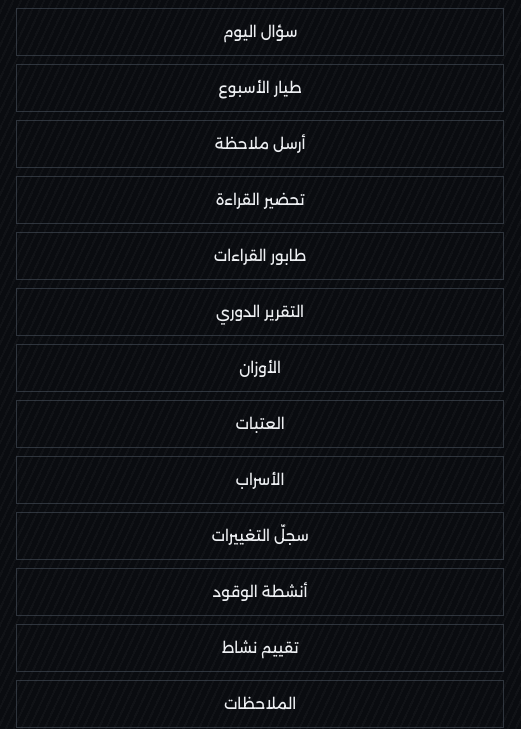
Test: نافذة المشرف — و-٧ › الأوزان: تعرض الإصدار الساري كما وصل
(page scrolled)
Click the button "الأوزان".
click(260, 368)  # box [16, 344, 504, 392]
(page scrolled)
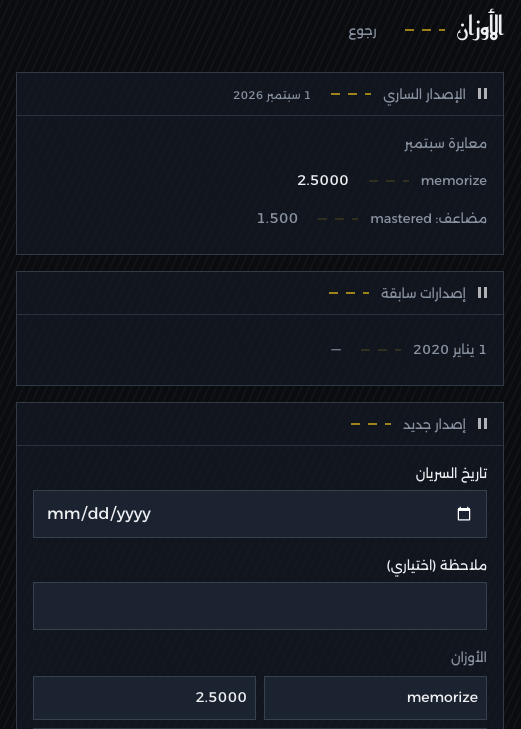
Expected: the text "memorize" is shown, [421, 169, 487, 191]
Expected: the text "2.5000" is shown, [297, 171, 349, 189]
